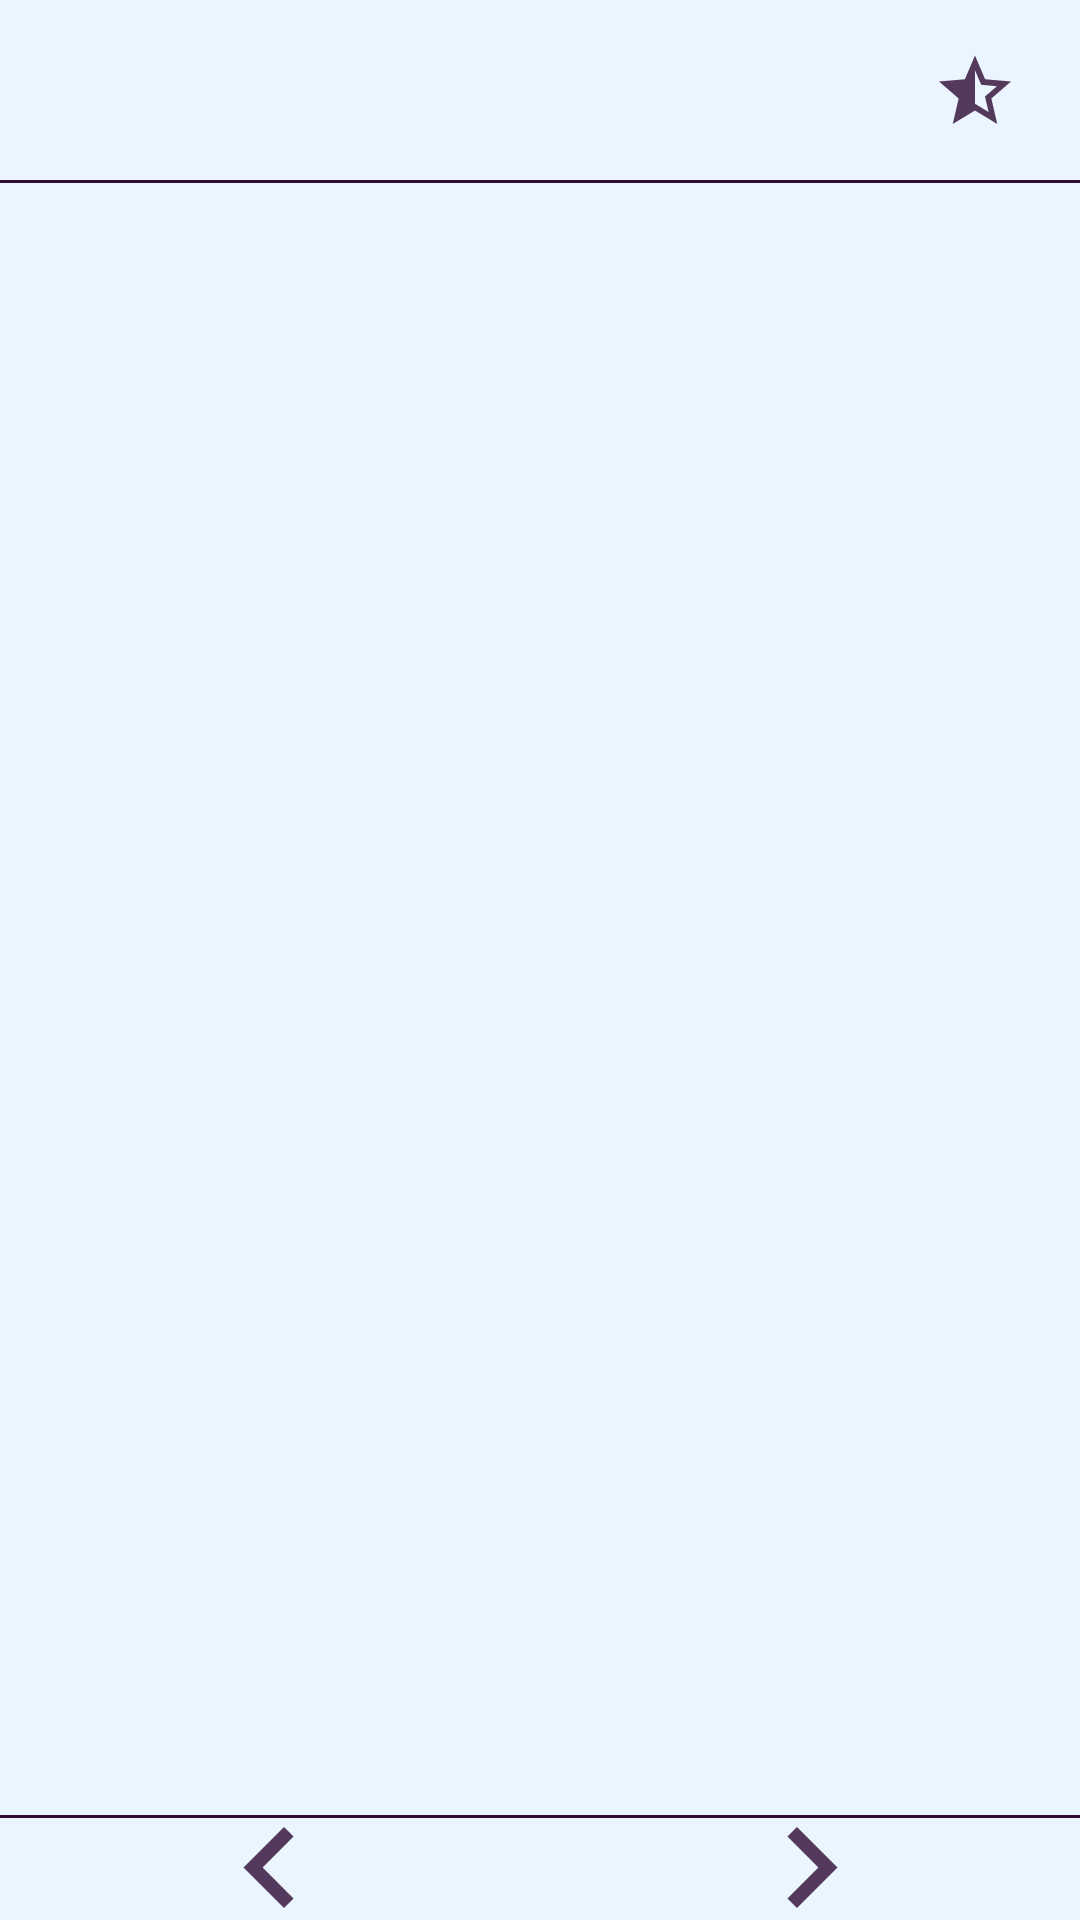

Icons on this 1080px×1920px Android screen, each with the point to tap as (x,y):
star: (975,90)
